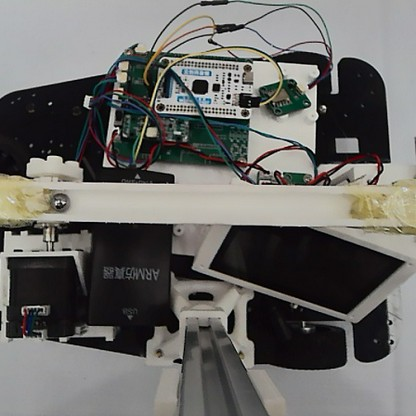ironball: (49, 190, 70, 214)
